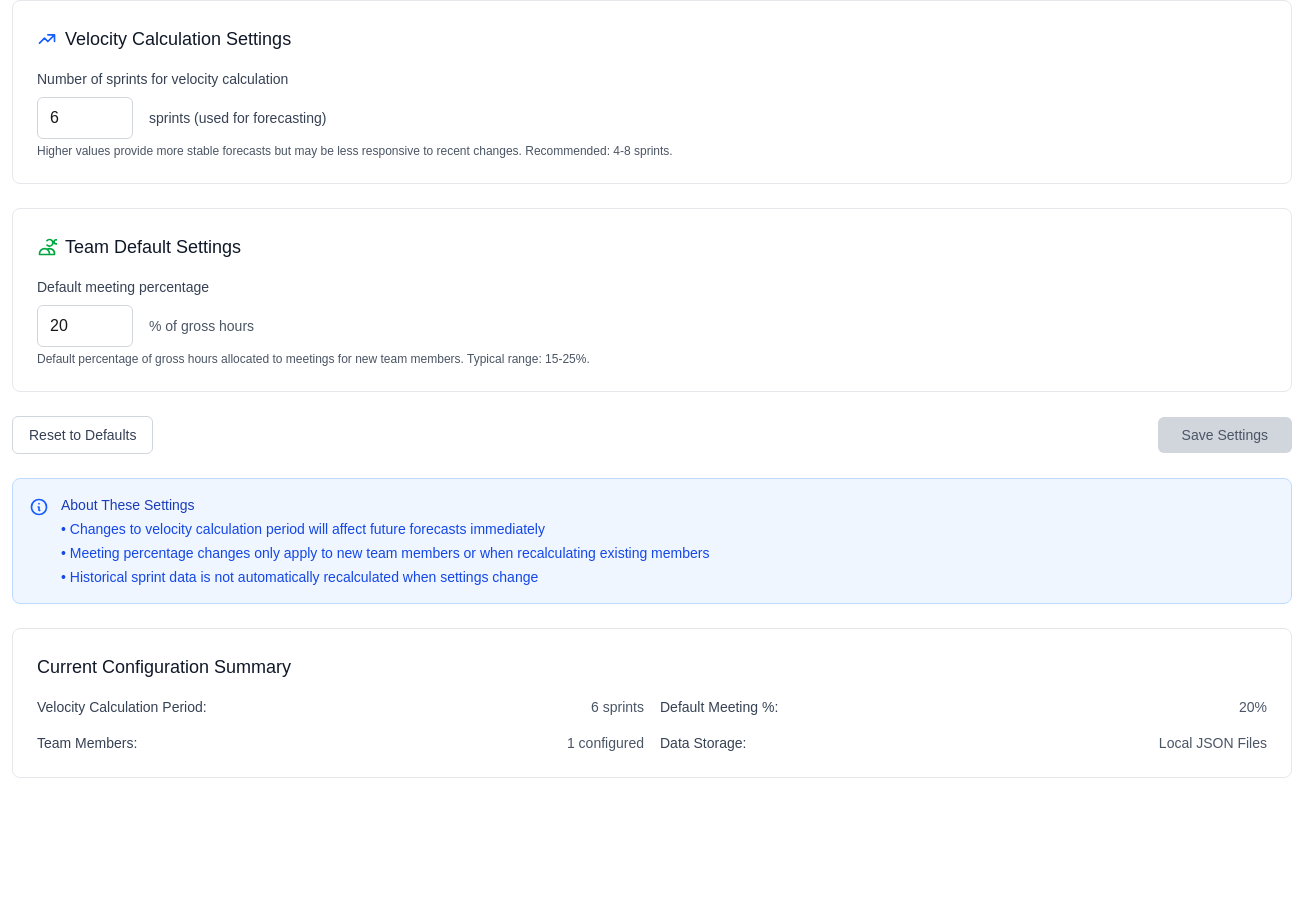
Test: SettingsForm › shows success message after successful save
This screenshot has width=1304, height=900.
Replace the text in the number field labelled "Number of sprints for velocity calculation" with "8": (85, 118) [37,97,133,139]
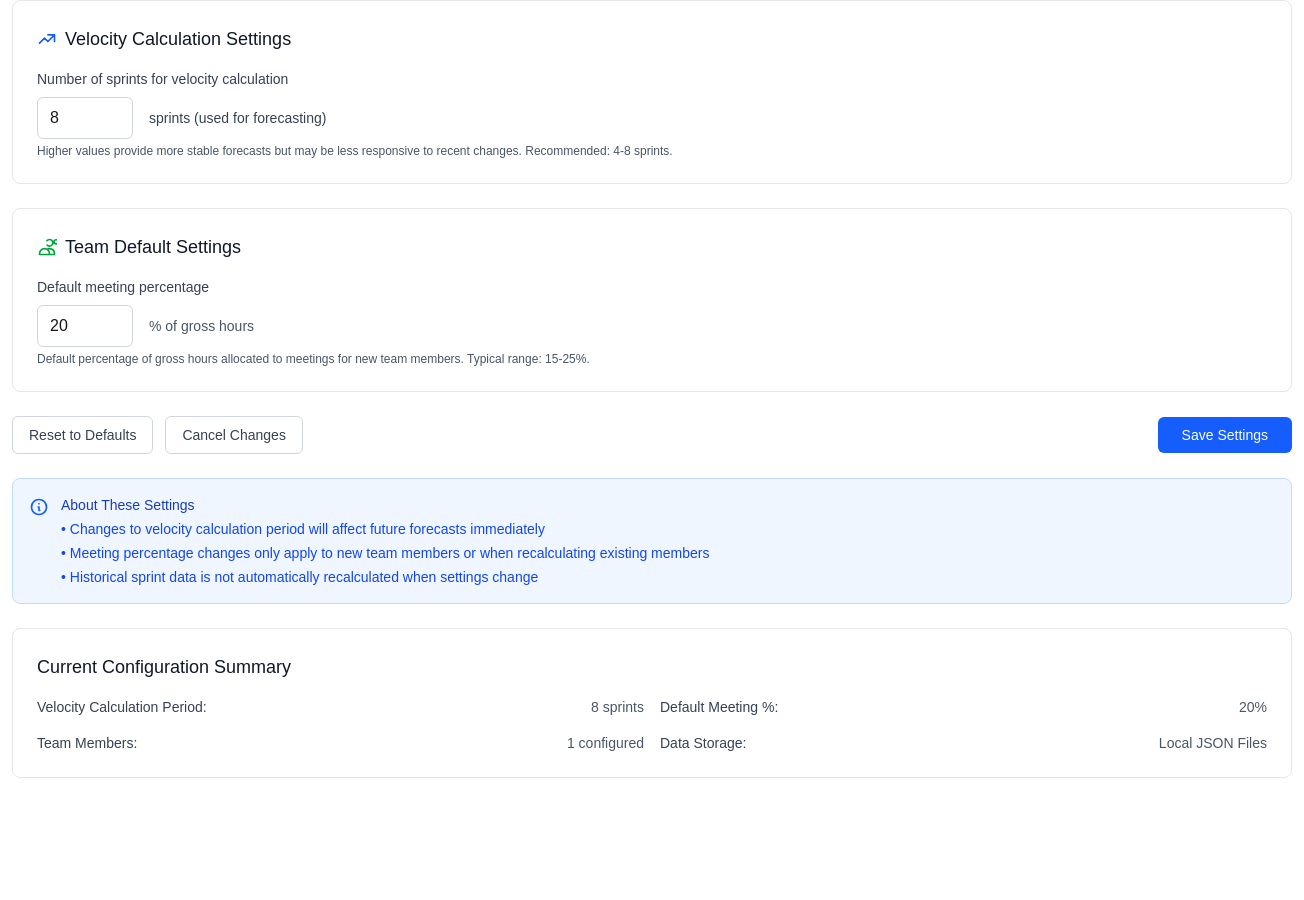
Click the button "Save Settings": (1225, 435) [1158,417,1292,453]
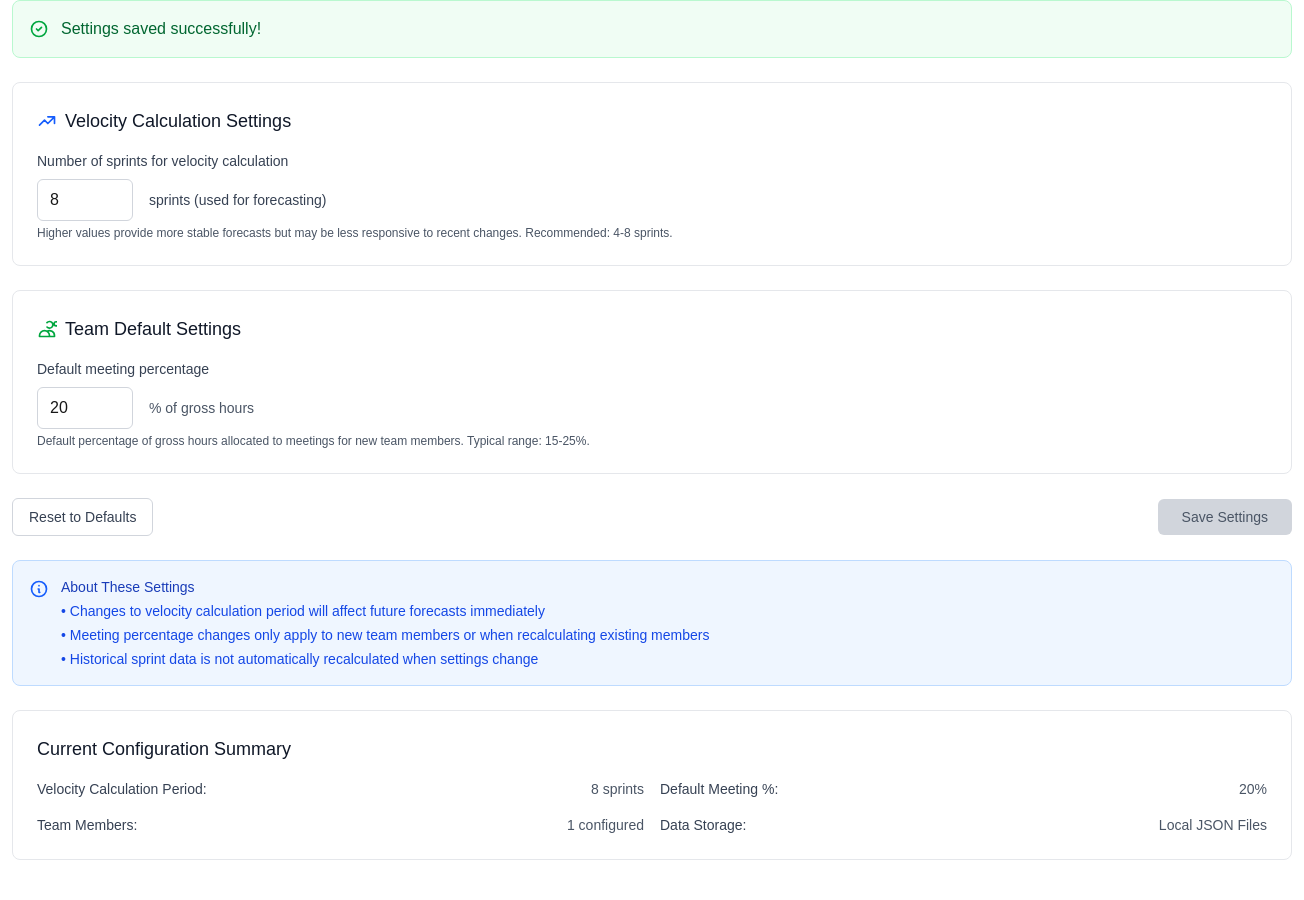
Check: the text "Settings saved successfully!" is shown, box [61,17,261,41]
